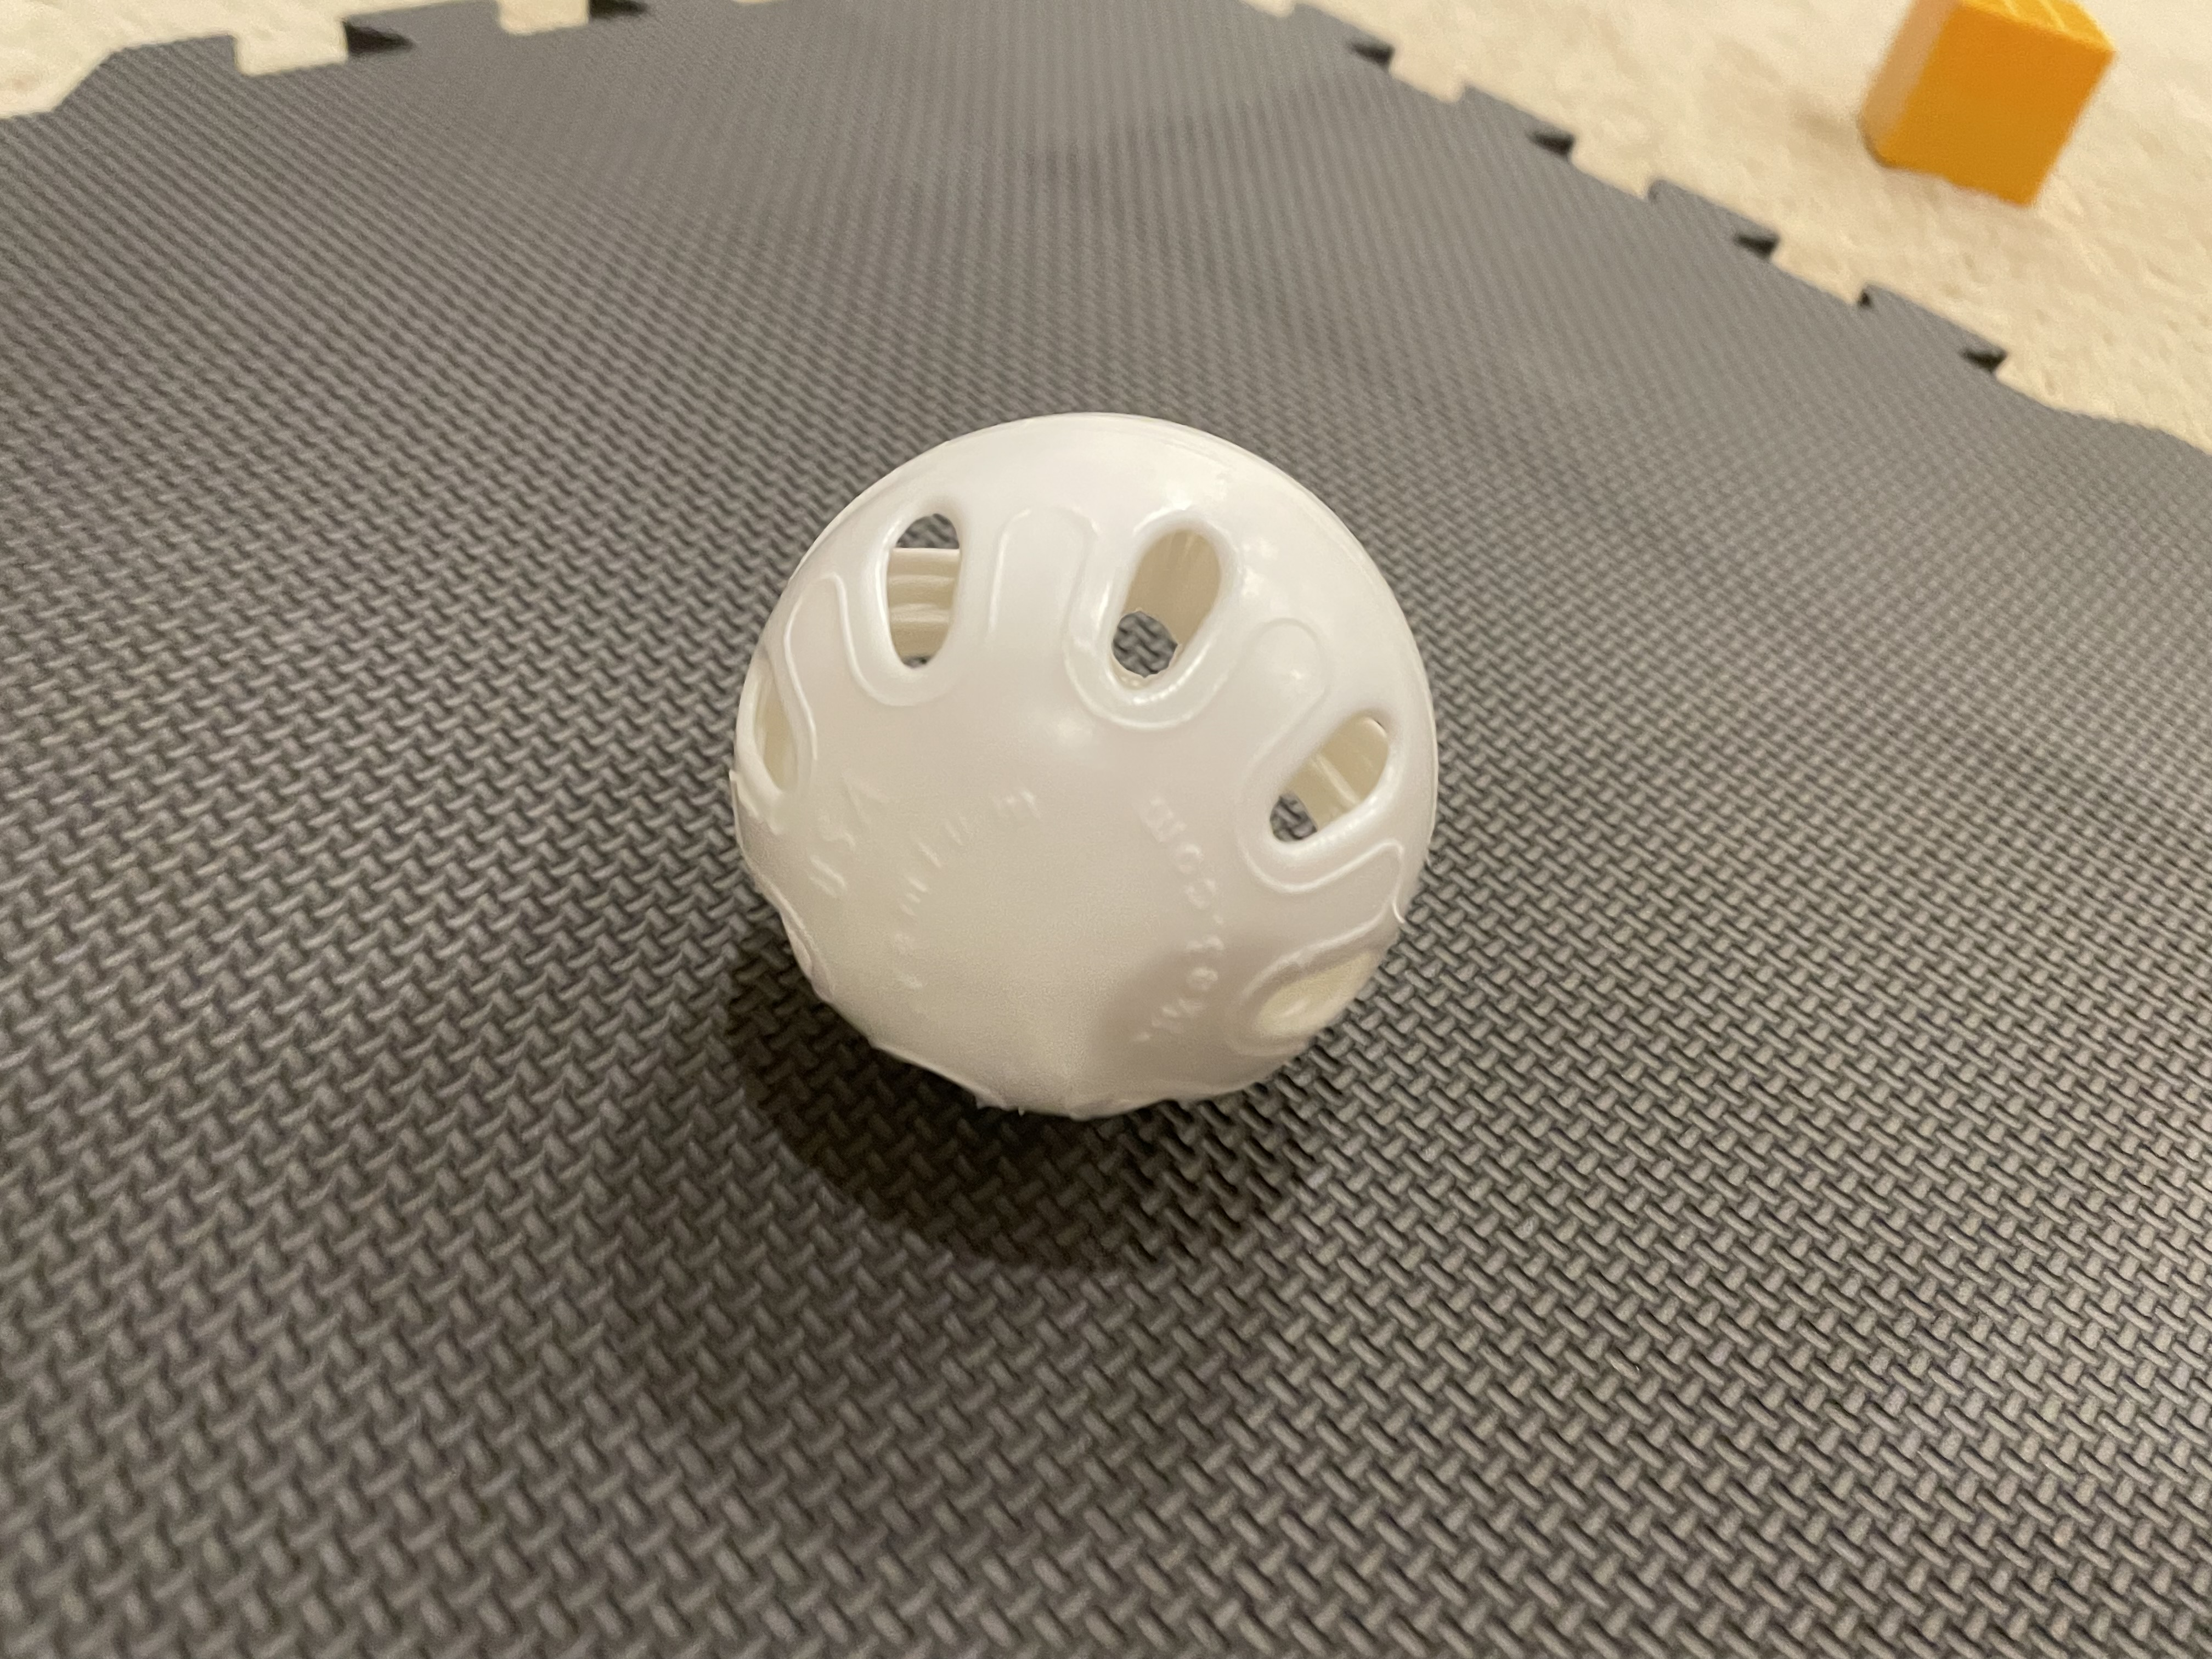ball: (632, 368, 1454, 1190)
